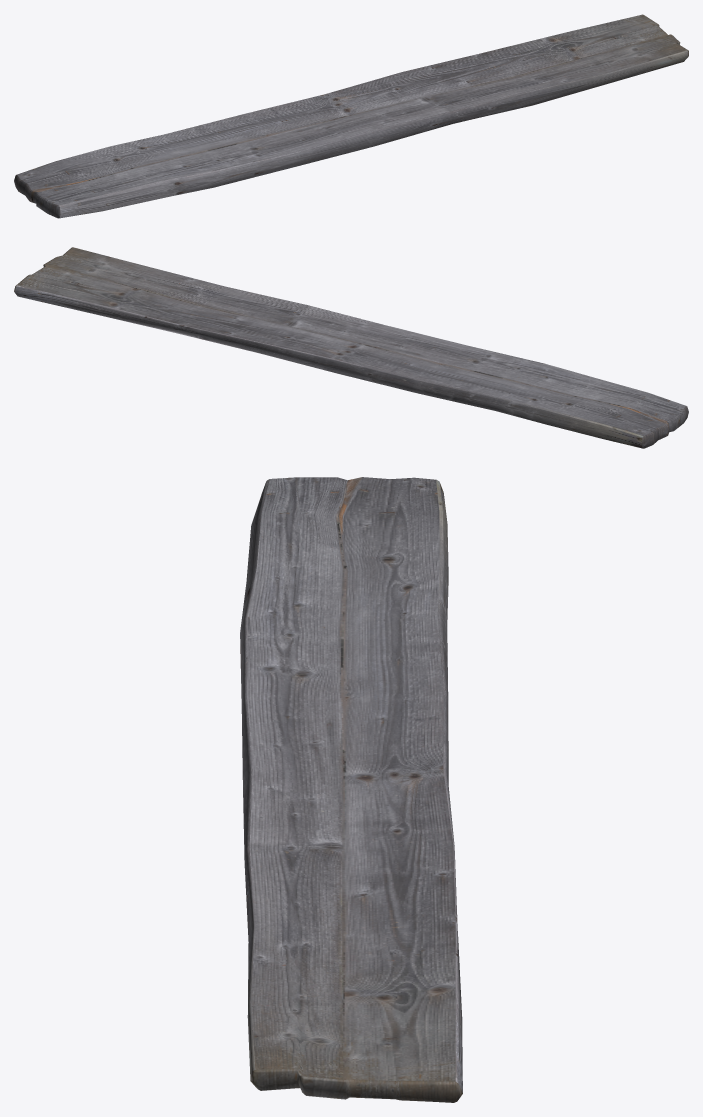
Rendered from SM_WoodPlank_02_01.fbx.
3 views of the same model, one above another, from view 1: azimuth 30°, elevation 25°; view 2: azimuth 150°, elevation 25°; view 3: azimuth 270°, elevation 25° (orthographic). The views are drawn at different scales.
Parts seen in each view (by area): view 1: sm_WoodPlank_02_01_LOD0; view 2: sm_WoodPlank_02_01_LOD0; view 3: sm_WoodPlank_02_01_LOD0.
Boxes of the visible parts, <box> form: sm_WoodPlank_02_01_LOD0: <box>14,14,688,218</box>; sm_WoodPlank_02_01_LOD0: <box>14,247,688,448</box>; sm_WoodPlank_02_01_LOD0: <box>240,477,462,1102</box>.
Bounding box in the file's own units: 30.43 × 199 × 6.05.
